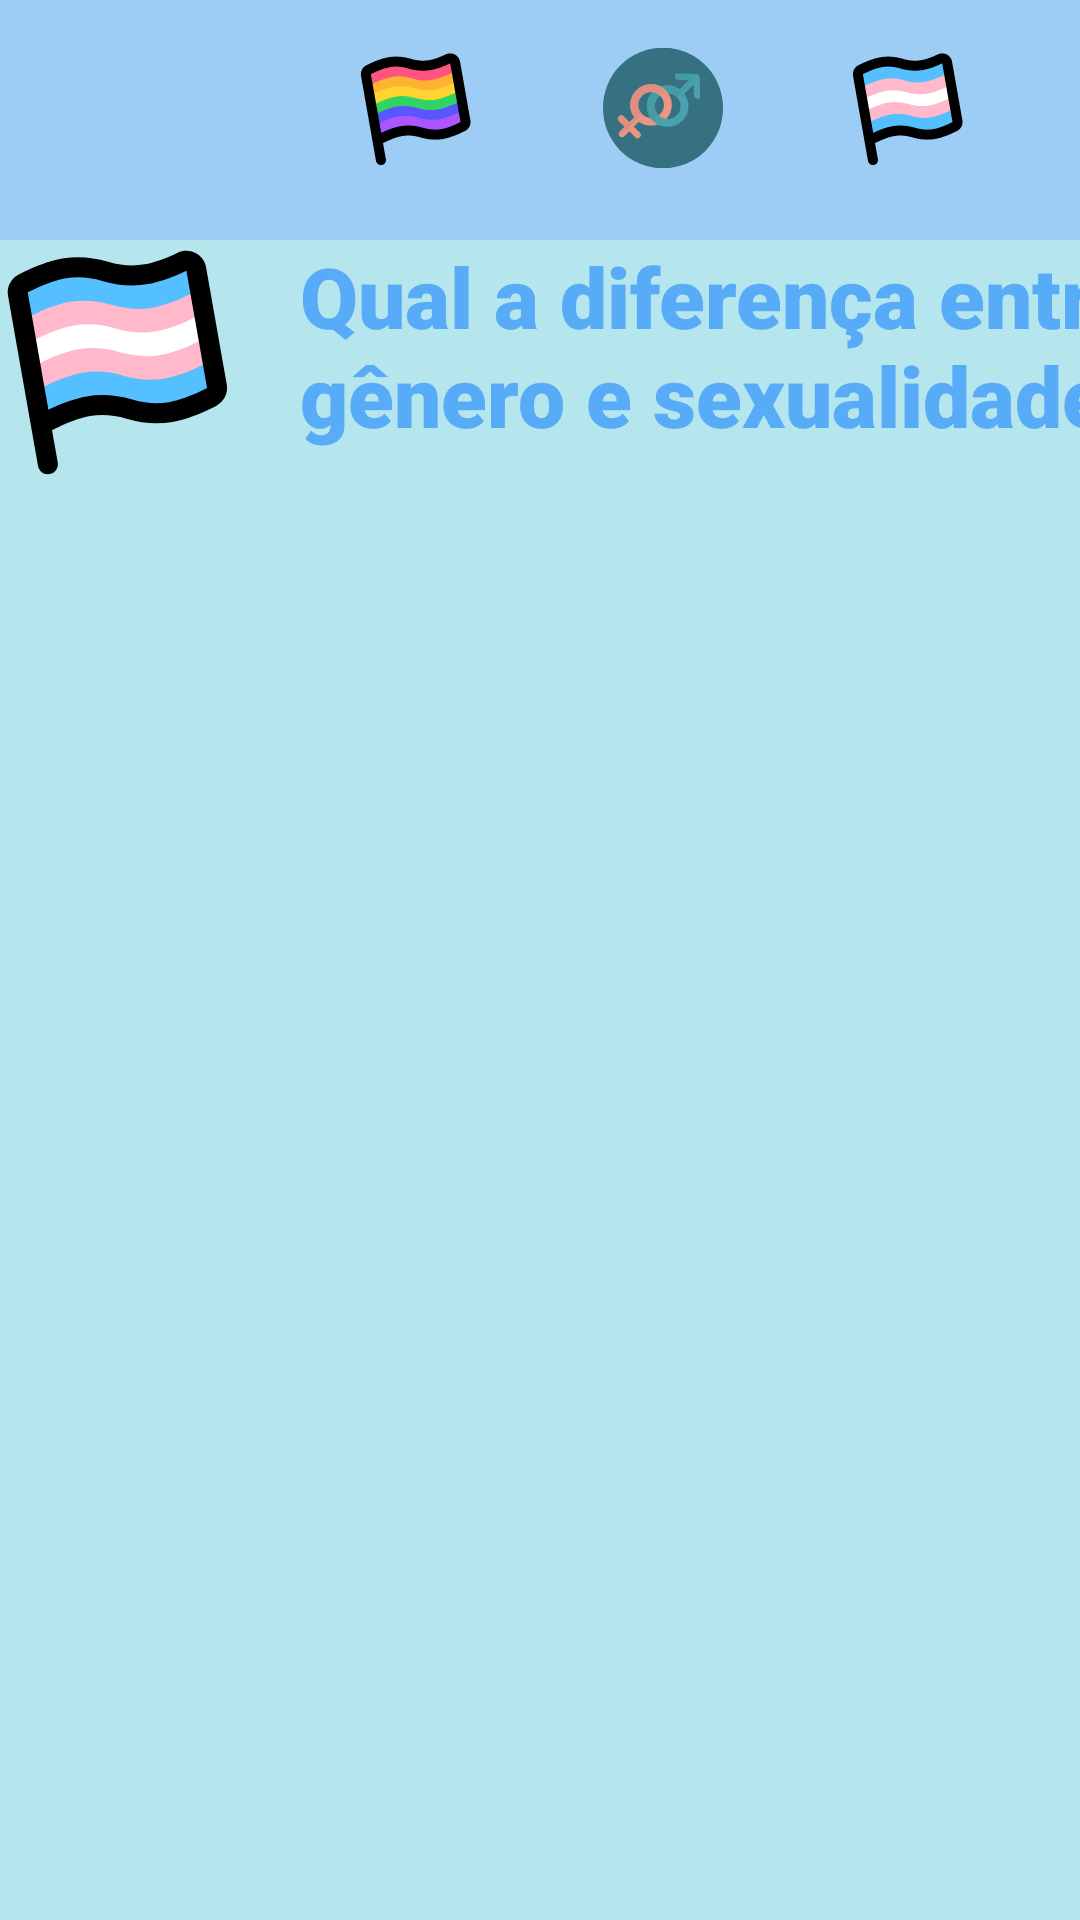

Screen size 1080px x 1920px. Icon name, then its box in pixels as (x1, y1, x2, y2):
flagtrans: (852, 53, 963, 165), (7, 250, 227, 475)
genders: (603, 48, 723, 168)
lgbtflag: (360, 53, 471, 165)
